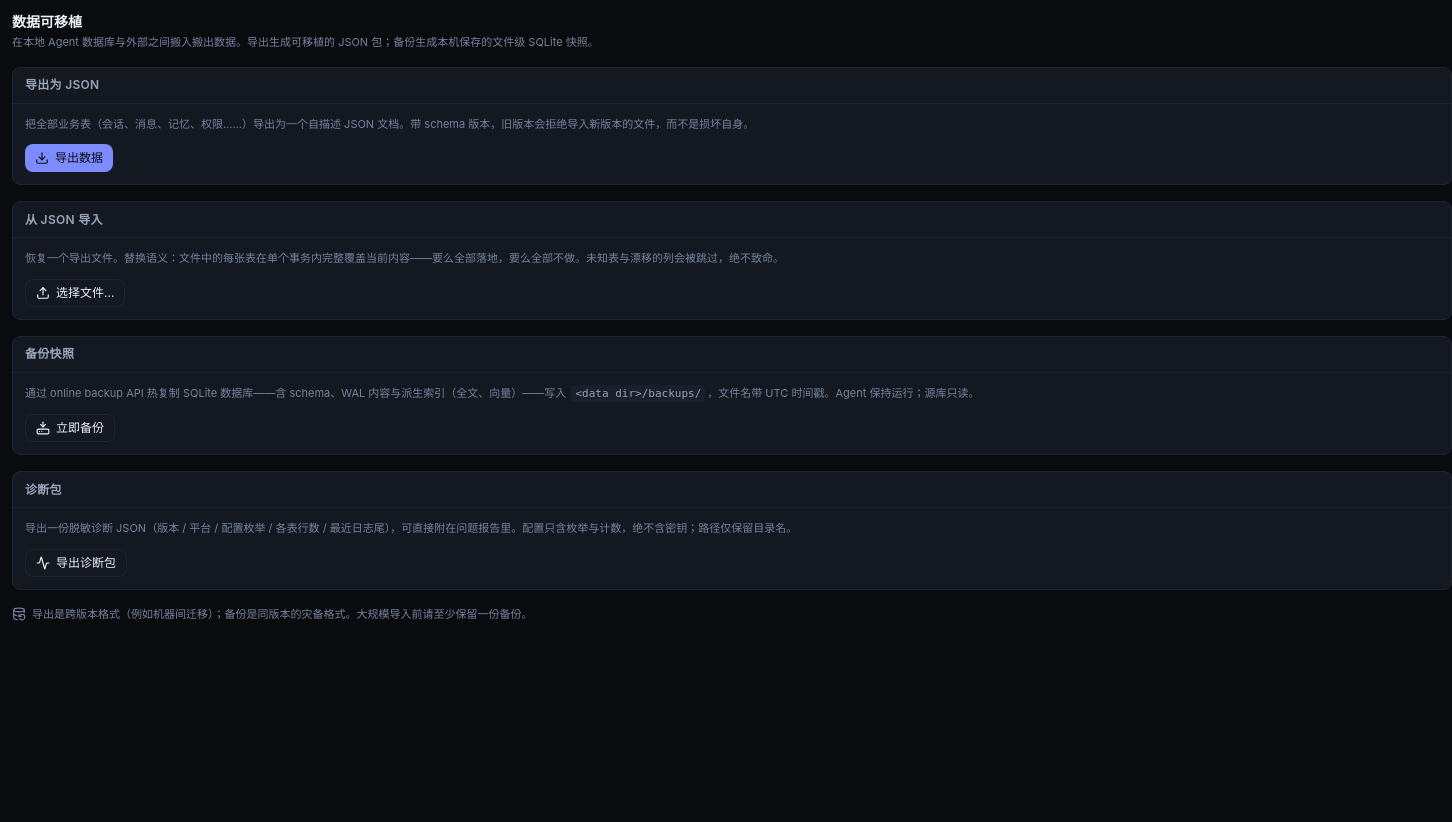
Test: DataTab › diagnostic: downloads a blob and reports version + table count
Click the button with test id "settings-data-diagnostic" at (76, 562), box [25,548,127,576]
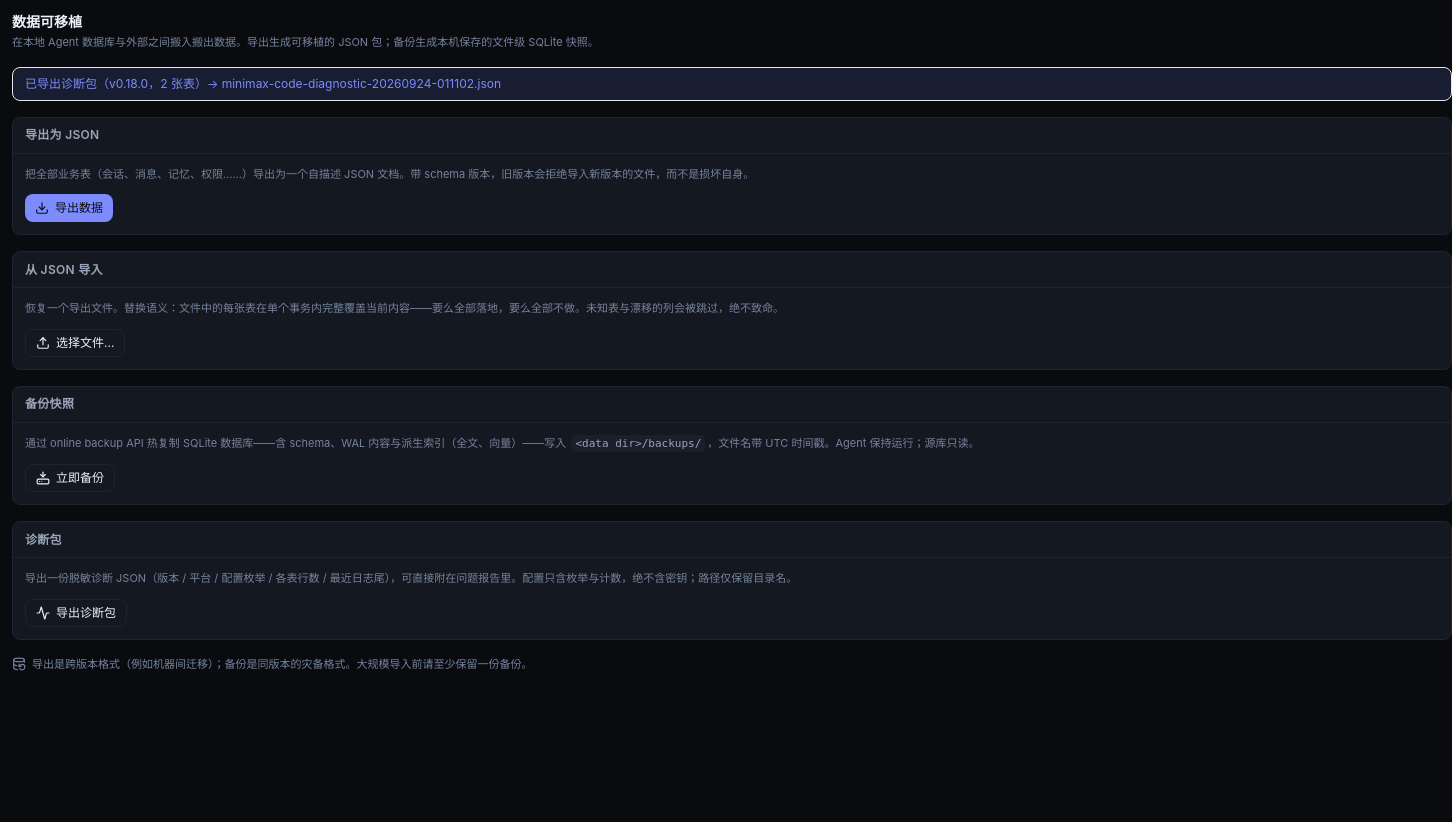
Expected: the message with test id "settings-data-feedback" shows "v0.18.0，2 张表", [25,76,501,90]
Expected: the message with test id "settings-data-feedback" shows "minimax-code-diagnostic-", [25,76,501,90]
